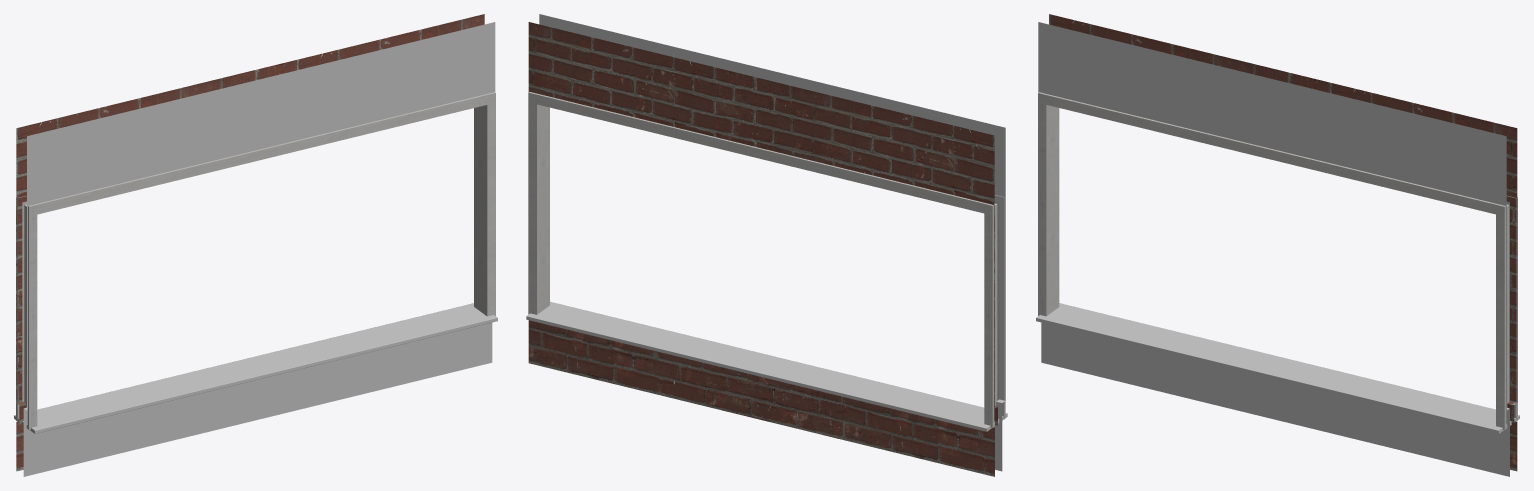
File: In_Wall_Door_Garage_B_5x.FBX
3 renders of one model, left to right at view 1: azimuth 30°, elevation 25°; view 2: azimuth 150°, elevation 25°; view 3: azimuth 330°, elevation 25°, orthographic.
Visible parts, largest first — view 1: Wall_Door_Garage_B_5x; view 2: Wall_Door_Garage_B_5x; view 3: Wall_Door_Garage_B_5x.
Boxes of the visible parts, left/top/right/bottom form: Wall_Door_Garage_B_5x: left=14, top=14, right=497, bottom=476; Wall_Door_Garage_B_5x: left=526, top=14, right=1007, bottom=476; Wall_Door_Garage_B_5x: left=1036, top=14, right=1519, bottom=476.
Bounding box in the file's own units: 500 × 350 × 38.69.
